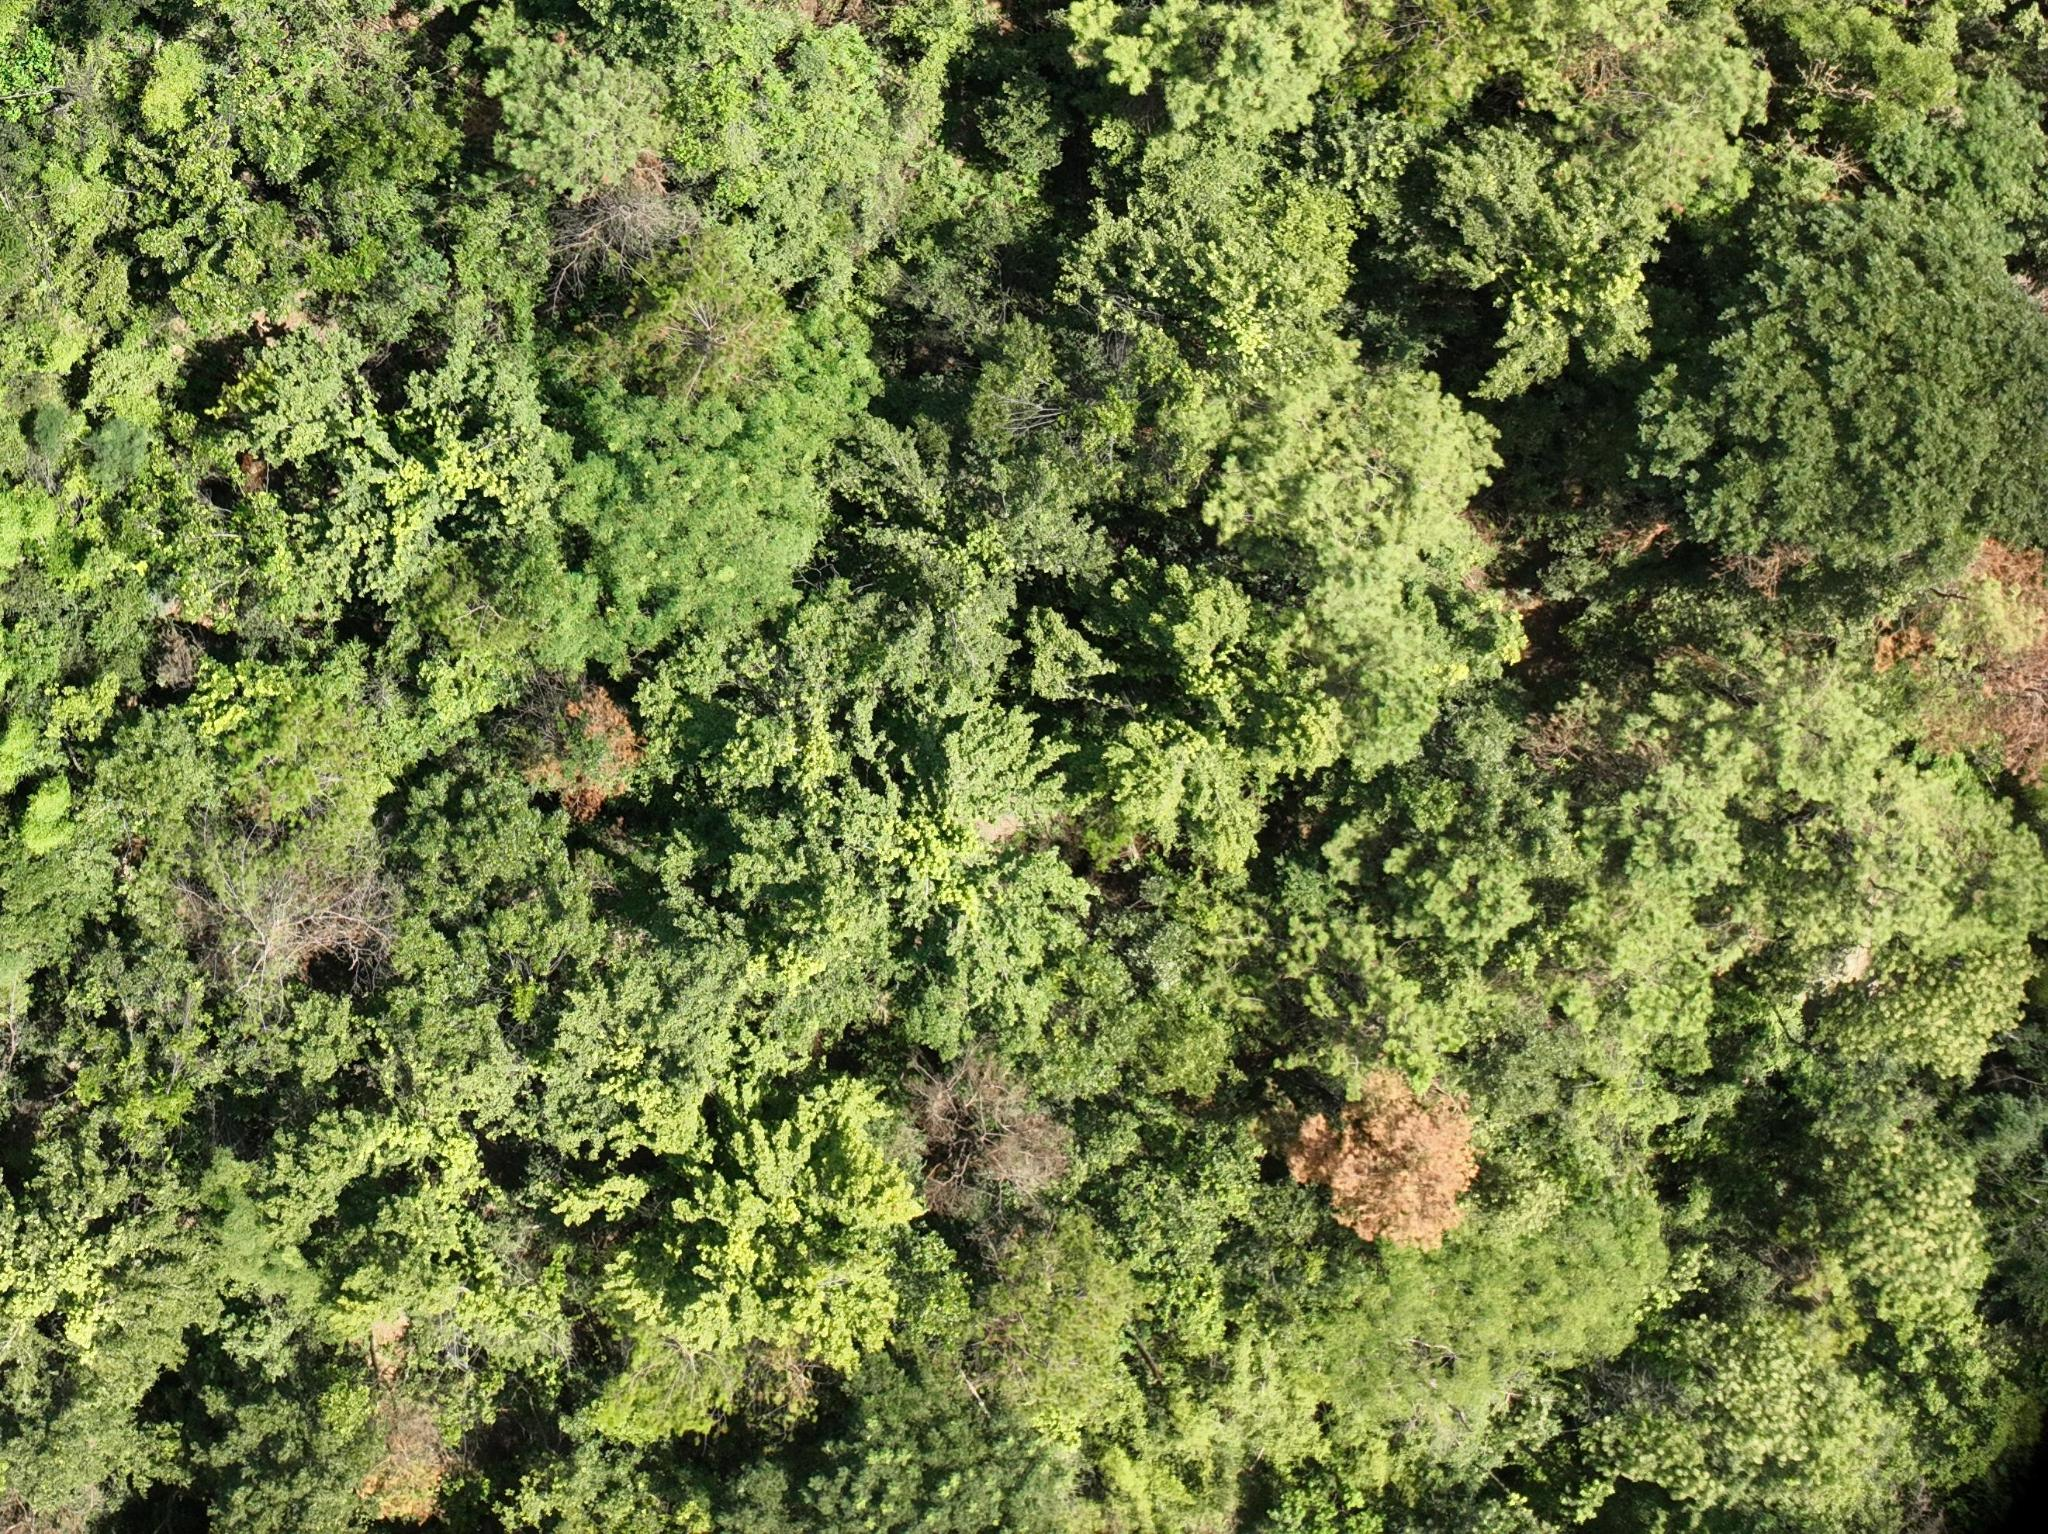dead: (253, 860, 401, 980), (546, 182, 690, 276)
heavy: (1898, 537, 2040, 782), (1281, 1075, 1478, 1250), (901, 1054, 1073, 1217), (529, 678, 638, 823)
